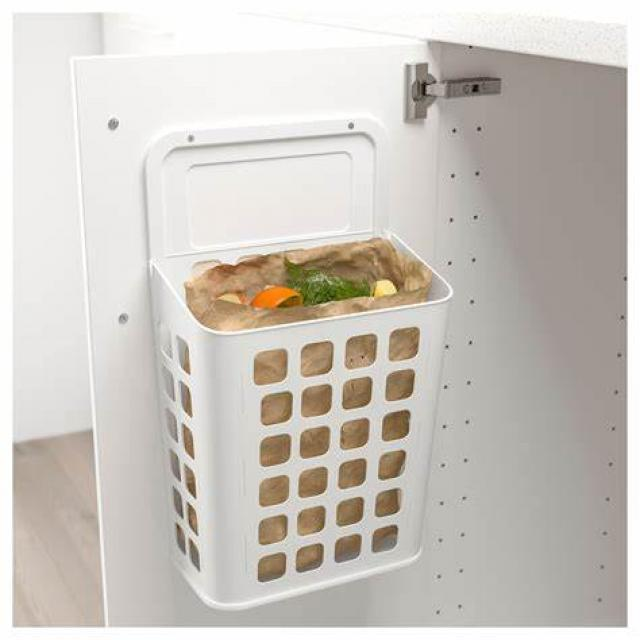garbage container: (120, 109, 456, 614)
